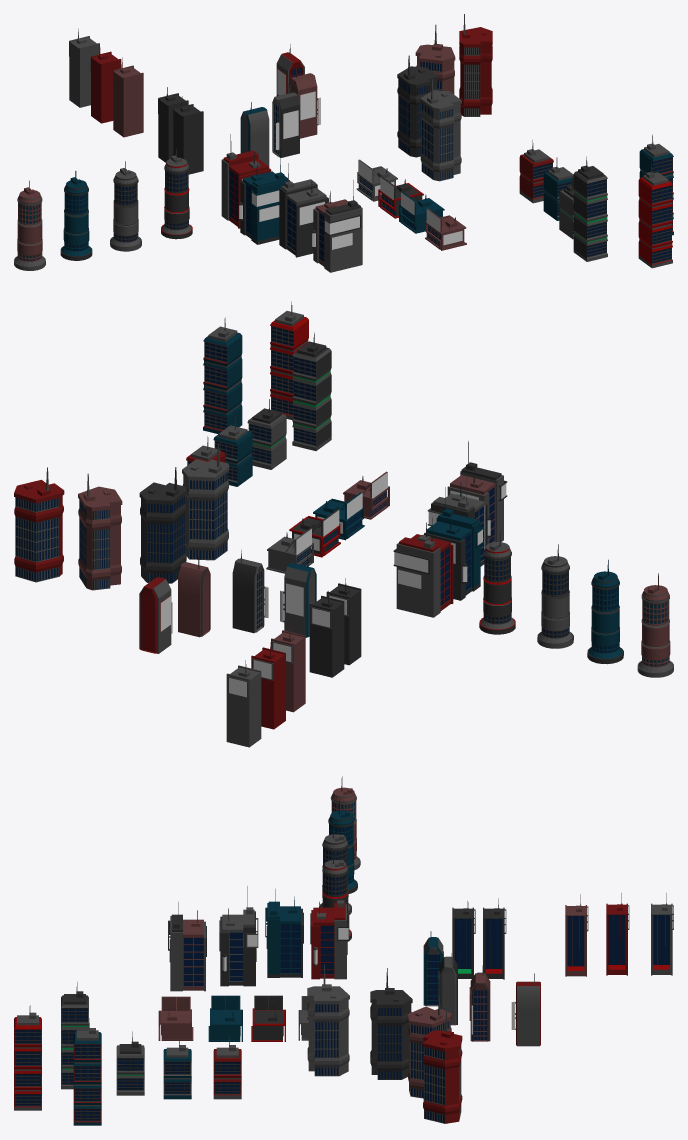
The model's file is gebouwen test 1.fbx.
The picture shows the model from 3 angles, top to bottom: view 1: azimuth 30°, elevation 25°; view 2: azimuth 150°, elevation 25°; view 3: azimuth 270°, elevation 25°; orthographic projection. The views are drawn at different scales.
Parts seen in each view (by area): view 1: pasted__pCube135, pasted__pCube80, pCube141, pCube137, pasted__pCube132, pCube71, pasted__pCube72, pCube135, pCube7, pCube129, pasted__pCube140, pasted__pCube148 (+19 smaller); view 2: pasted__pCube132, pCube24, pCube135, pasted__pCube135, pasted__pCube138, pCube137, pCube142, pCube71, pCube141, pCube136, pasted__pCube17, pCube7 (+18 smaller); view 3: pasted__pCube135, pasted__pCube132, pCube135, pasted__pCube72, pCube24, pCube142, pasted__pCube80, pCube71, pCube141, pasted__pCube138, pCube137, pCube119 (+18 smaller).
Part boxes in pixels (x1=…): pasted__pCube135: x1=420, y1=79, x2=461, y2=181; pasted__pCube80: x1=312, y1=180, x2=362, y2=272; pCube141: x1=638, y1=163, x2=672, y2=268; pCube137: x1=573, y1=156, x2=607, y2=261; pasted__pCube132: x1=459, y1=14, x2=492, y2=116; pCube71: x1=239, y1=152, x2=289, y2=244; pasted__pCube72: x1=279, y1=163, x2=328, y2=257; pCube135: x1=397, y1=55, x2=438, y2=157; pCube7: x1=60, y1=171, x2=92, y2=260; pCube129: x1=14, y1=180, x2=45, y2=270; pasted__pCube140: x1=110, y1=161, x2=141, y2=251; pasted__pCube148: x1=161, y1=149, x2=192, y2=239; pasted__pCube132: x1=14, y1=467, x2=64, y2=582; pCube24: x1=393, y1=518, x2=453, y2=617; pCube135: x1=139, y1=467, x2=186, y2=583; pasted__pCube135: x1=182, y1=443, x2=229, y2=560; pasted__pCube138: x1=78, y1=473, x2=122, y2=590; pCube137: x1=292, y1=332, x2=331, y2=450; pCube142: x1=203, y1=317, x2=242, y2=433; pCube71: x1=424, y1=487, x2=483, y2=600; pCube141: x1=270, y1=301, x2=308, y2=419; pCube136: x1=226, y1=660, x2=261, y2=747; pasted__pCube17: x1=309, y1=591, x2=344, y2=677; pCube7: x1=587, y1=559, x2=623, y2=664; pasted__pCube135: x1=307, y1=964, x2=349, y2=1076; pasted__pCube132: x1=422, y1=1010, x2=462, y2=1123; pCube135: x1=370, y1=968, x2=412, y2=1079; pasted__pCube72: x1=219, y1=886, x2=258, y2=986; pCube24: x1=310, y1=879, x2=349, y2=979; pCube142: x1=73, y1=1018, x2=101, y2=1125; pasted__pCube80: x1=168, y1=902, x2=206, y2=991; pCube71: x1=265, y1=889, x2=303, y2=977; pCube141: x1=14, y1=1005, x2=41, y2=1110; pasted__pCube138: x1=407, y1=994, x2=451, y2=1098; pCube137: x1=61, y1=982, x2=88, y2=1089; pCube119: x1=511, y1=973, x2=540, y2=1046.
Size of the model in its own units: 1047 by 187 by 1094.
